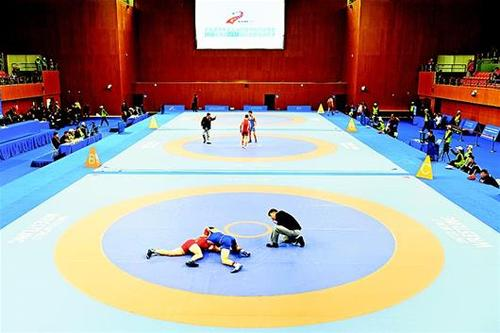10+: (1, 48, 500, 281)
down: (145, 235, 252, 269), (203, 224, 255, 275)
